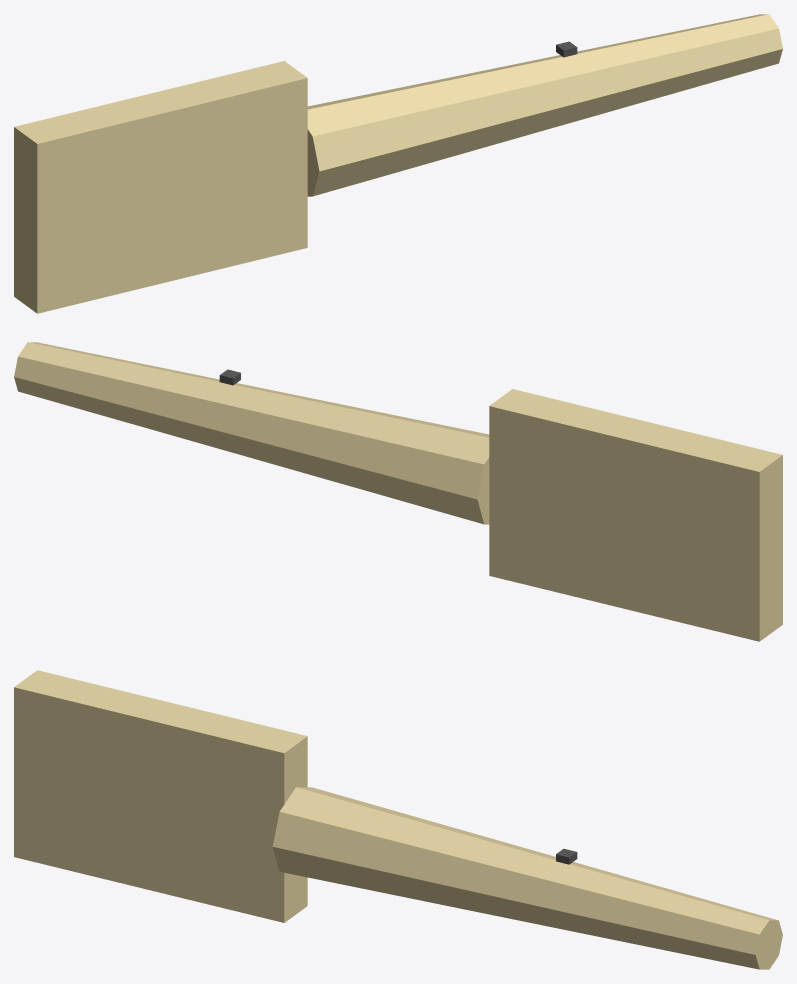
The model's file is prop-winding-peg-blank.fbx.
The picture shows the model from 3 angles, top to bottom: view 1: azimuth 30°, elevation 25°; view 2: azimuth 150°, elevation 25°; view 3: azimuth 330°, elevation 25°; orthographic projection.
Visible parts, largest first — view 1: prop-winding-peg-blank; view 2: prop-winding-peg-blank; view 3: prop-winding-peg-blank.
Boxes of the visible parts, x1=… form: prop-winding-peg-blank: x1=14, y1=14, x2=782, y2=313; prop-winding-peg-blank: x1=14, y1=342, x2=782, y2=641; prop-winding-peg-blank: x1=14, y1=670, x2=782, y2=969.
Bounding box in the file's own units: 11 × 2.4 × 1.2.
